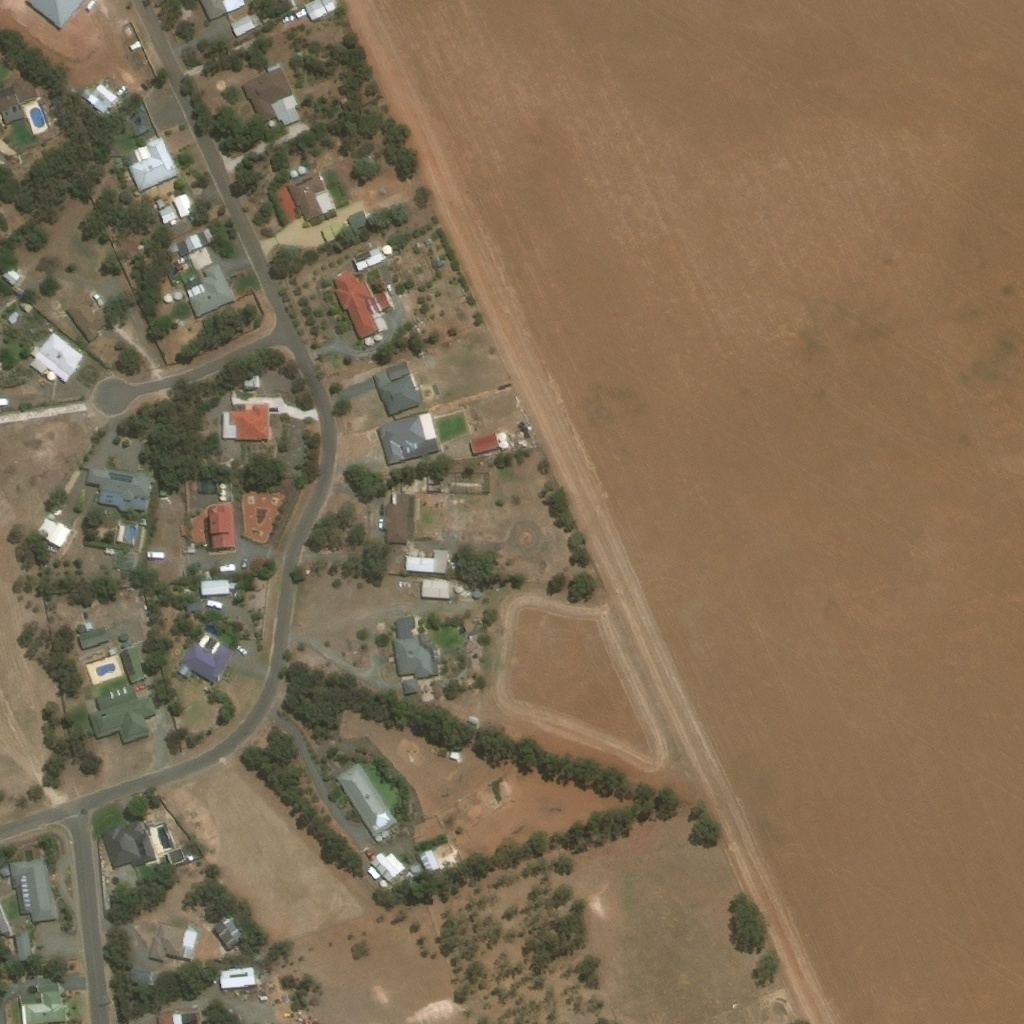0 no-damage: (335, 761, 397, 838), (87, 685, 156, 742), (240, 62, 300, 125), (121, 136, 178, 193), (378, 412, 438, 464), (8, 857, 55, 923), (333, 269, 377, 337), (84, 467, 149, 513), (393, 616, 438, 677), (183, 263, 233, 317), (99, 821, 156, 868), (370, 361, 420, 414), (28, 334, 81, 383), (173, 642, 232, 682), (285, 173, 333, 222), (147, 921, 196, 960), (19, 982, 64, 1023), (221, 404, 268, 440), (65, 308, 108, 343), (381, 493, 410, 541), (207, 503, 234, 548), (213, 912, 245, 948), (405, 548, 447, 573), (5, 930, 34, 964), (370, 852, 403, 881), (35, 519, 69, 547), (120, 646, 146, 682), (219, 965, 255, 988), (352, 246, 383, 271), (89, 83, 117, 110), (185, 246, 211, 272), (77, 627, 107, 649), (113, 519, 136, 547), (199, 578, 238, 594), (415, 847, 439, 872), (171, 191, 193, 218), (471, 432, 499, 453), (320, 220, 346, 241), (200, 0, 227, 20), (421, 578, 449, 597), (231, 14, 255, 36), (347, 207, 370, 229), (123, 969, 151, 987), (400, 476, 426, 493), (165, 846, 185, 865), (181, 233, 201, 252), (0, 266, 19, 285), (194, 228, 213, 246), (195, 479, 216, 495), (157, 205, 175, 223), (239, 372, 257, 389), (161, 291, 181, 305), (355, 154, 372, 170), (375, 290, 390, 308), (495, 430, 509, 449), (174, 239, 188, 257), (157, 1013, 180, 1023), (402, 678, 417, 692), (372, 830, 388, 843), (365, 868, 380, 881), (17, 301, 31, 314), (91, 295, 102, 310), (429, 679, 444, 689), (447, 749, 459, 760), (412, 264, 424, 274), (154, 199, 164, 210), (397, 847, 412, 854), (411, 244, 421, 254), (182, 545, 192, 555), (159, 567, 172, 574), (382, 244, 392, 253), (200, 597, 213, 603), (101, 548, 112, 555), (118, 634, 127, 641), (217, 496, 225, 503), (217, 482, 224, 489), (46, 328, 52, 333), (218, 490, 224, 495)
4 un-classified: (0, 909, 9, 933)
